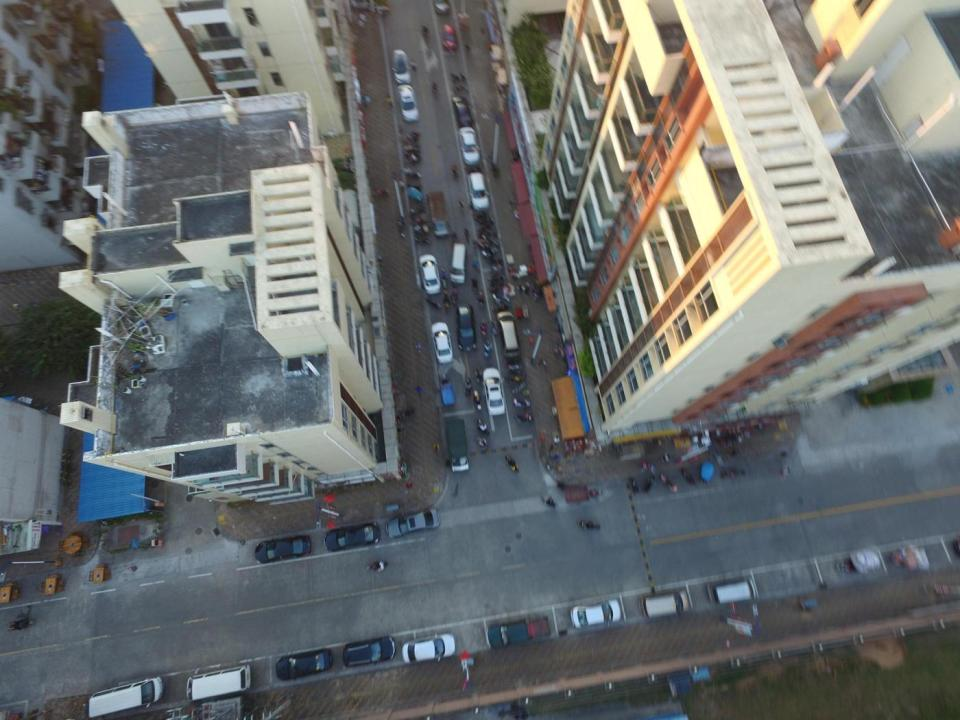car: (275, 647, 334, 681), (324, 521, 381, 552), (401, 632, 456, 664), (384, 508, 439, 540), (254, 534, 312, 564), (342, 636, 396, 668), (570, 598, 622, 629), (481, 367, 506, 416), (456, 302, 478, 352), (417, 253, 441, 296), (466, 170, 490, 213), (430, 322, 454, 364), (458, 126, 482, 168), (396, 84, 420, 122), (451, 95, 474, 126), (391, 48, 411, 83), (441, 24, 458, 53)
truck: (486, 616, 550, 650), (445, 418, 470, 472)
van: (88, 675, 164, 718), (186, 665, 250, 702), (640, 588, 690, 620), (706, 578, 756, 606), (496, 309, 521, 358), (449, 241, 468, 284)
